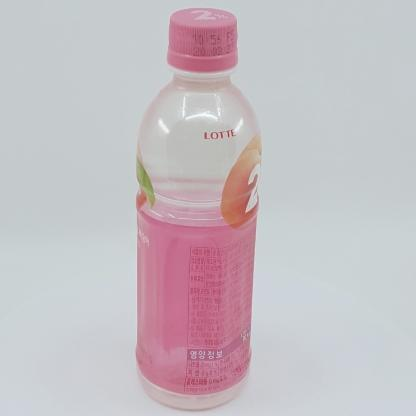--2_---350ML: (134, 7, 262, 411)
